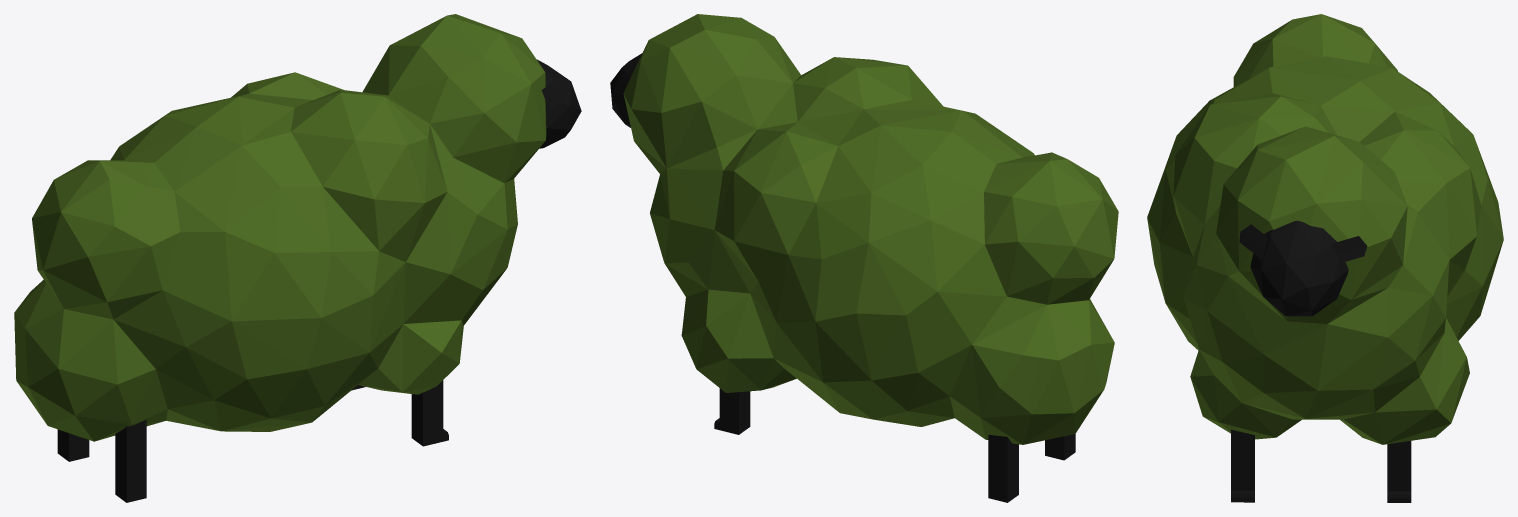
File: sheep.fbx
3 views of the same model, side by side, from view 1: azimuth 30°, elevation 25°; view 2: azimuth 150°, elevation 25°; view 3: azimuth 270°, elevation 25° (orthographic). The views are drawn at different scales.
Parts seen in each view (by area): view 1: Plane.014; view 2: Plane.014; view 3: Plane.014.
Part boxes in pixels (bbox=[...]): Plane.014: bbox=[14, 14, 581, 502]; Plane.014: bbox=[610, 14, 1118, 502]; Plane.014: bbox=[1147, 14, 1503, 502].
Size of the model in its own units: 318 by 218 by 179.
